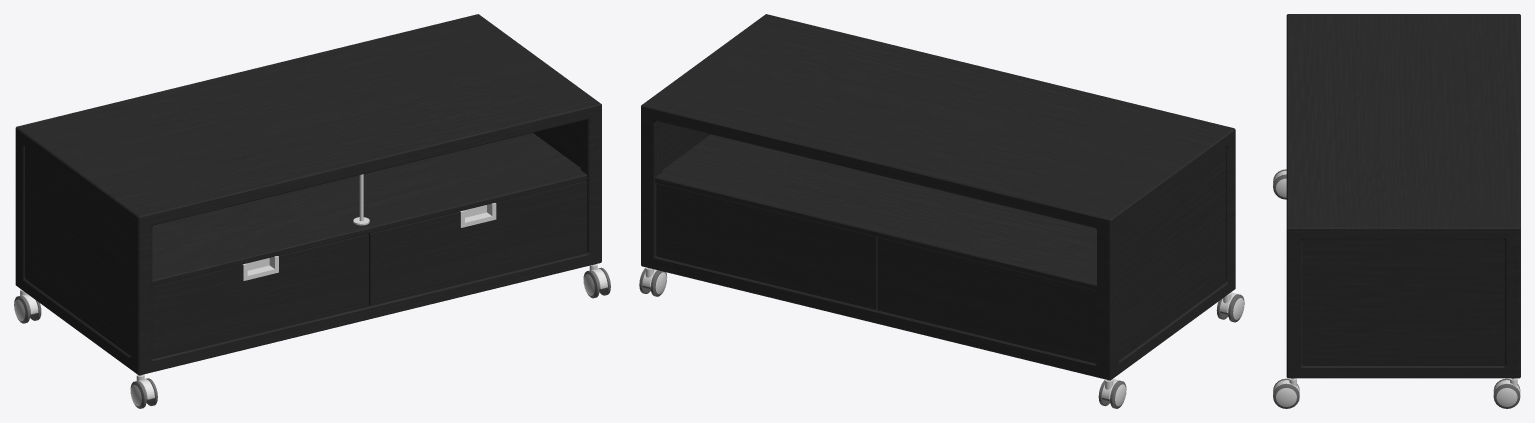
Rendered from TVbass_A.fbx.
3 renders of one model, left to right at view 1: azimuth 30°, elevation 25°; view 2: azimuth 150°, elevation 25°; view 3: azimuth 270°, elevation 25°, orthographic. The views are drawn at different scales.
Visible parts, largest first — view 1: TVbass_A; view 2: TVbass_A; view 3: TVbass_A.
Boxes of the visible parts, x1=… form: TVbass_A: x1=14, y1=14, x2=610, y2=408; TVbass_A: x1=639, y1=14, x2=1244, y2=408; TVbass_A: x1=1273, y1=14, x2=1520, y2=408.
Bounding box in the file's own units: 132 × 51.03 × 63.48.
